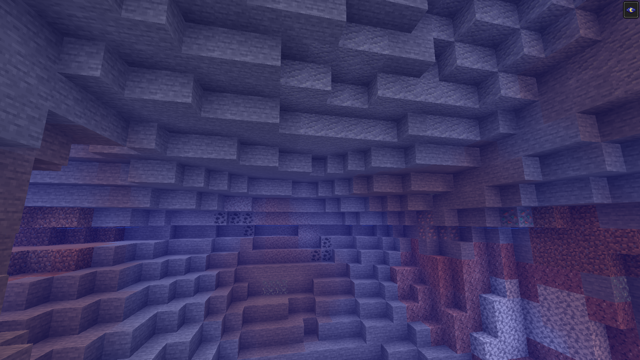coal: (213, 209, 254, 237), (308, 237, 334, 262)
copper: (498, 206, 534, 229)
iron: (417, 212, 460, 242)
